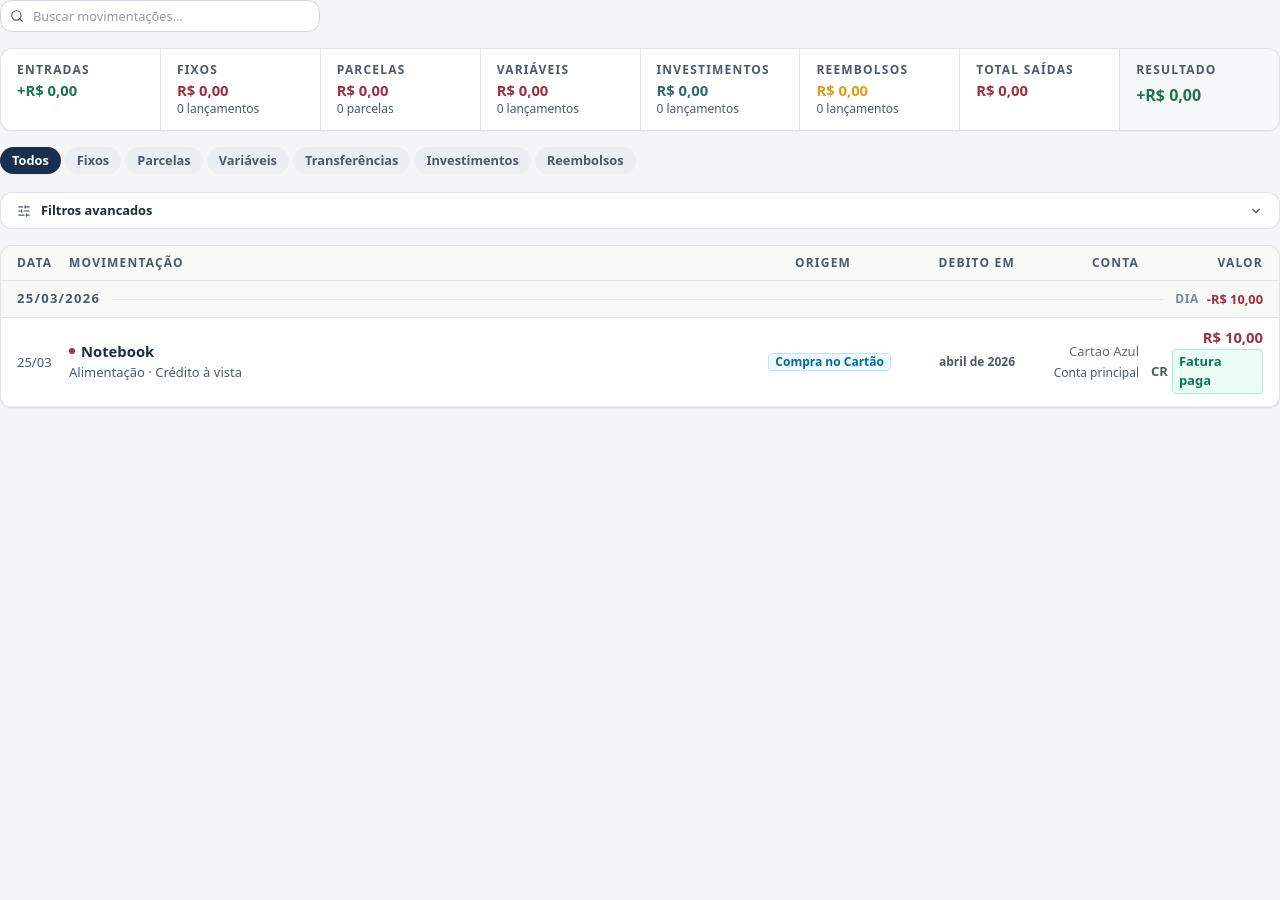
HistoryPage mobile scope behavior › shows debit month for card purchases inside the drawer
The width and height of the screenshot is (1280, 900).
Click the button "Notebook": (34, 362) [1, 318, 1279, 407]
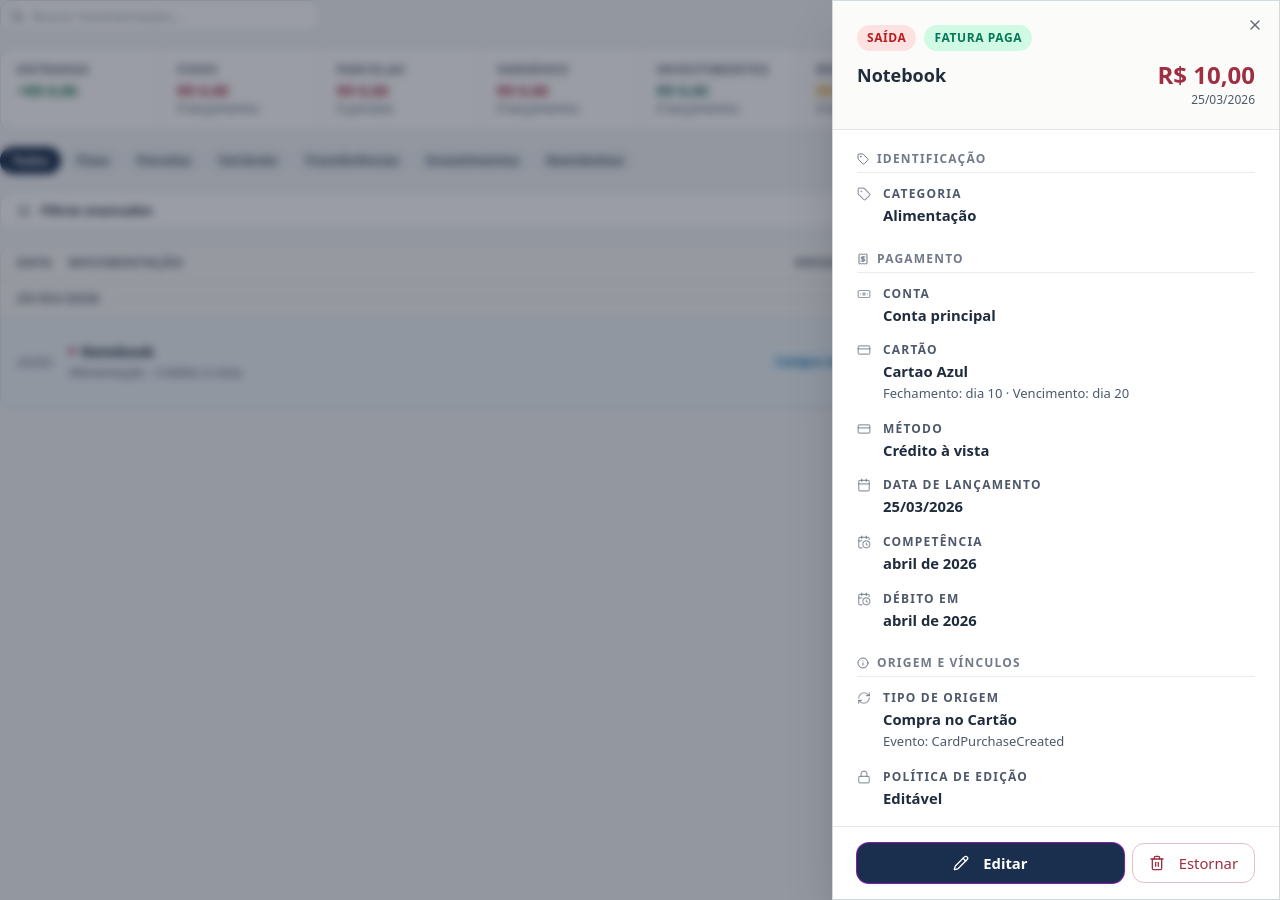
Expected: the text "abril de 2026" below "-R$ 10,00" is shown, [939, 353, 1015, 370]
Expected: the text "Débito em" is shown, [883, 590, 960, 607]
